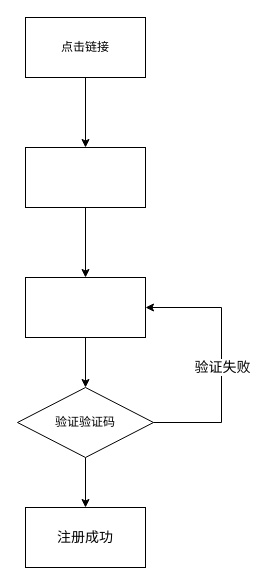
Some shapes in this 267 by 585 pixel diagram are drawn without their labels. The centre of each missing label's shape, as x and y in pixels:
输入手机验证码: [85,307]
输入账户信息: [85,177]
